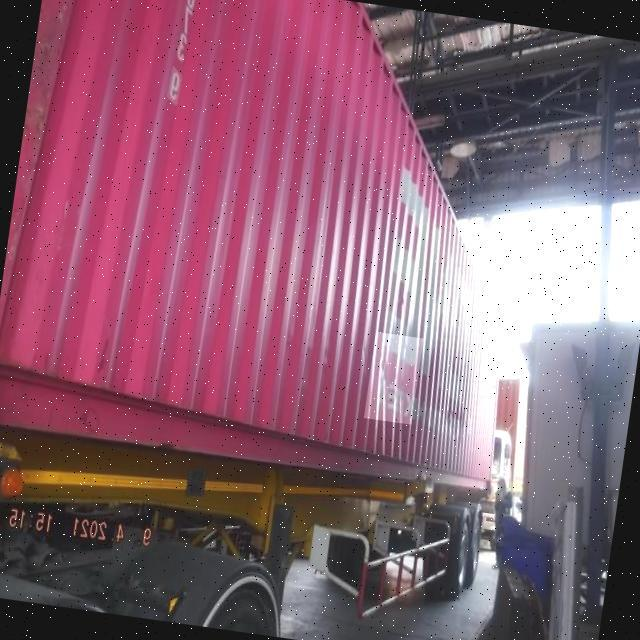Dent: (364, 332, 424, 425)
